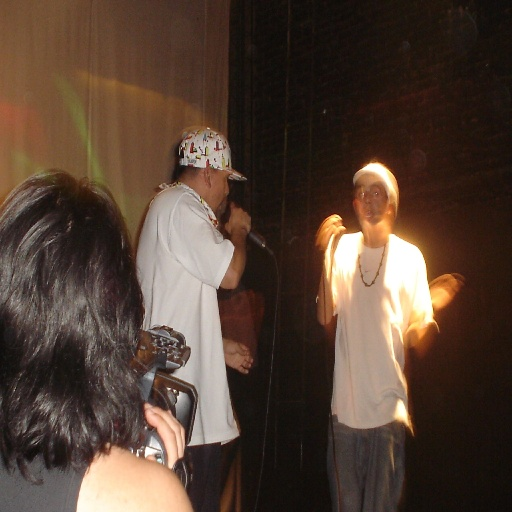hand: (138, 398, 184, 474), (428, 275, 463, 323), (315, 213, 345, 256), (221, 337, 254, 375), (224, 200, 251, 237)
